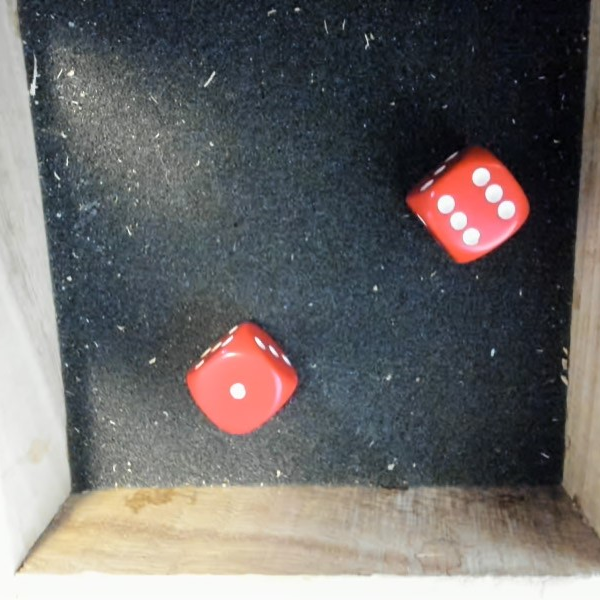red_die_pip1: (175, 309, 314, 447)
red_die_pip6: (386, 132, 540, 285)
